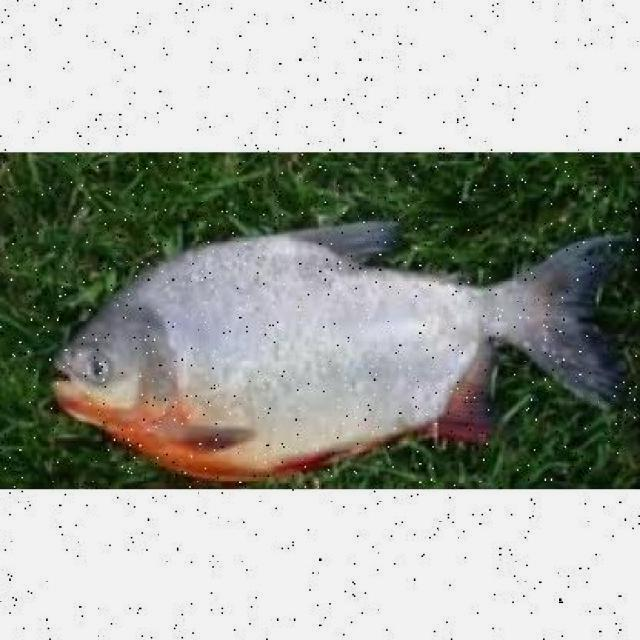ikan-pacu: (50, 218, 618, 480)
